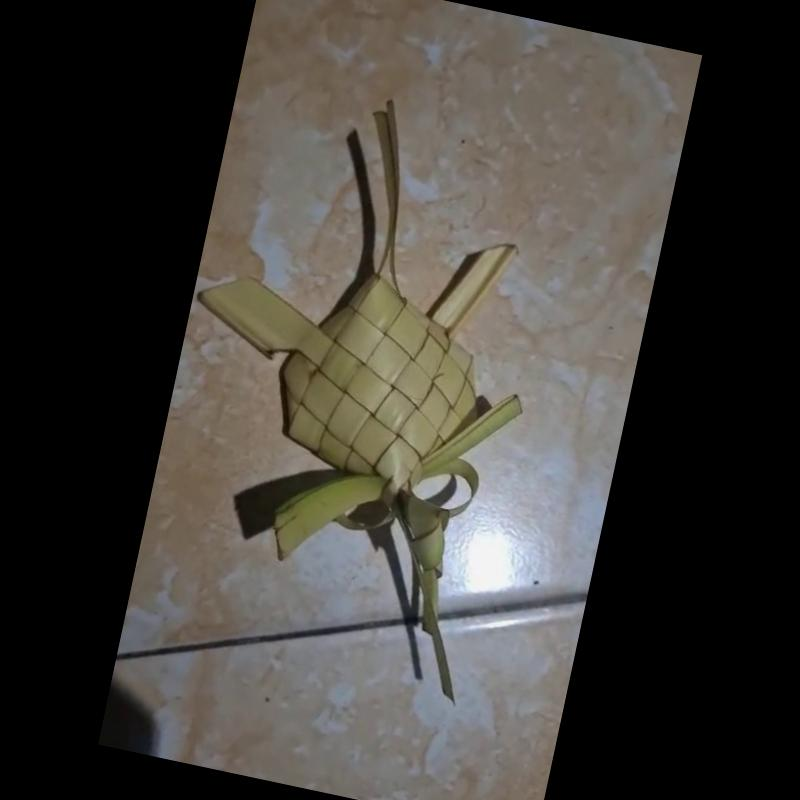Tipat Dampulan: (193, 107, 525, 705)
